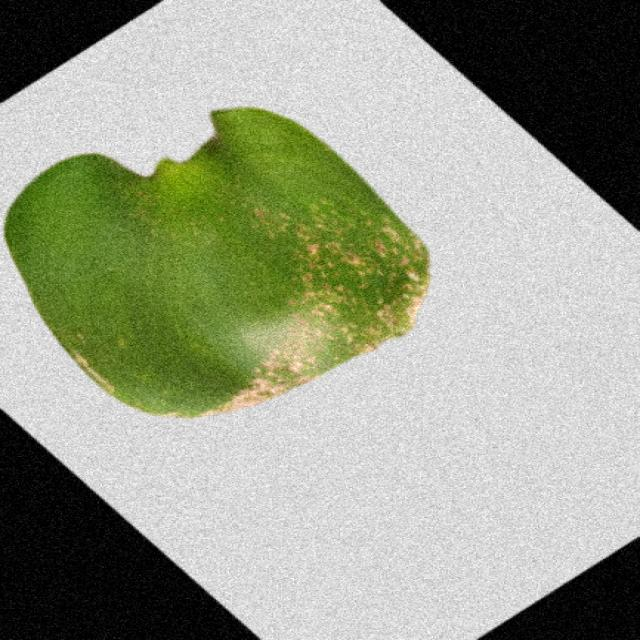daun berpenyakit bercak: (7, 108, 430, 417)
